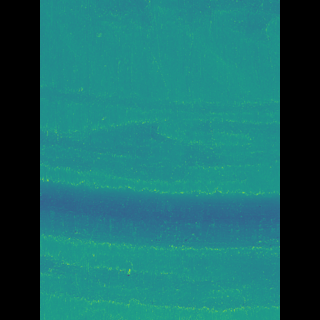Loch: (70, 180, 251, 250), (69, 260, 251, 312)
